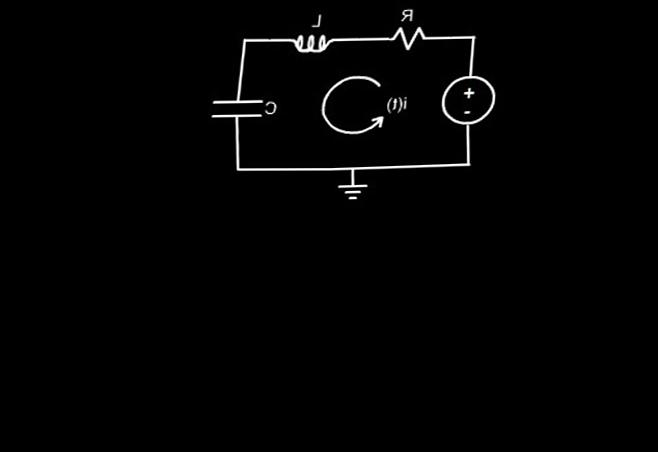Battery: (426, 67, 514, 137)
